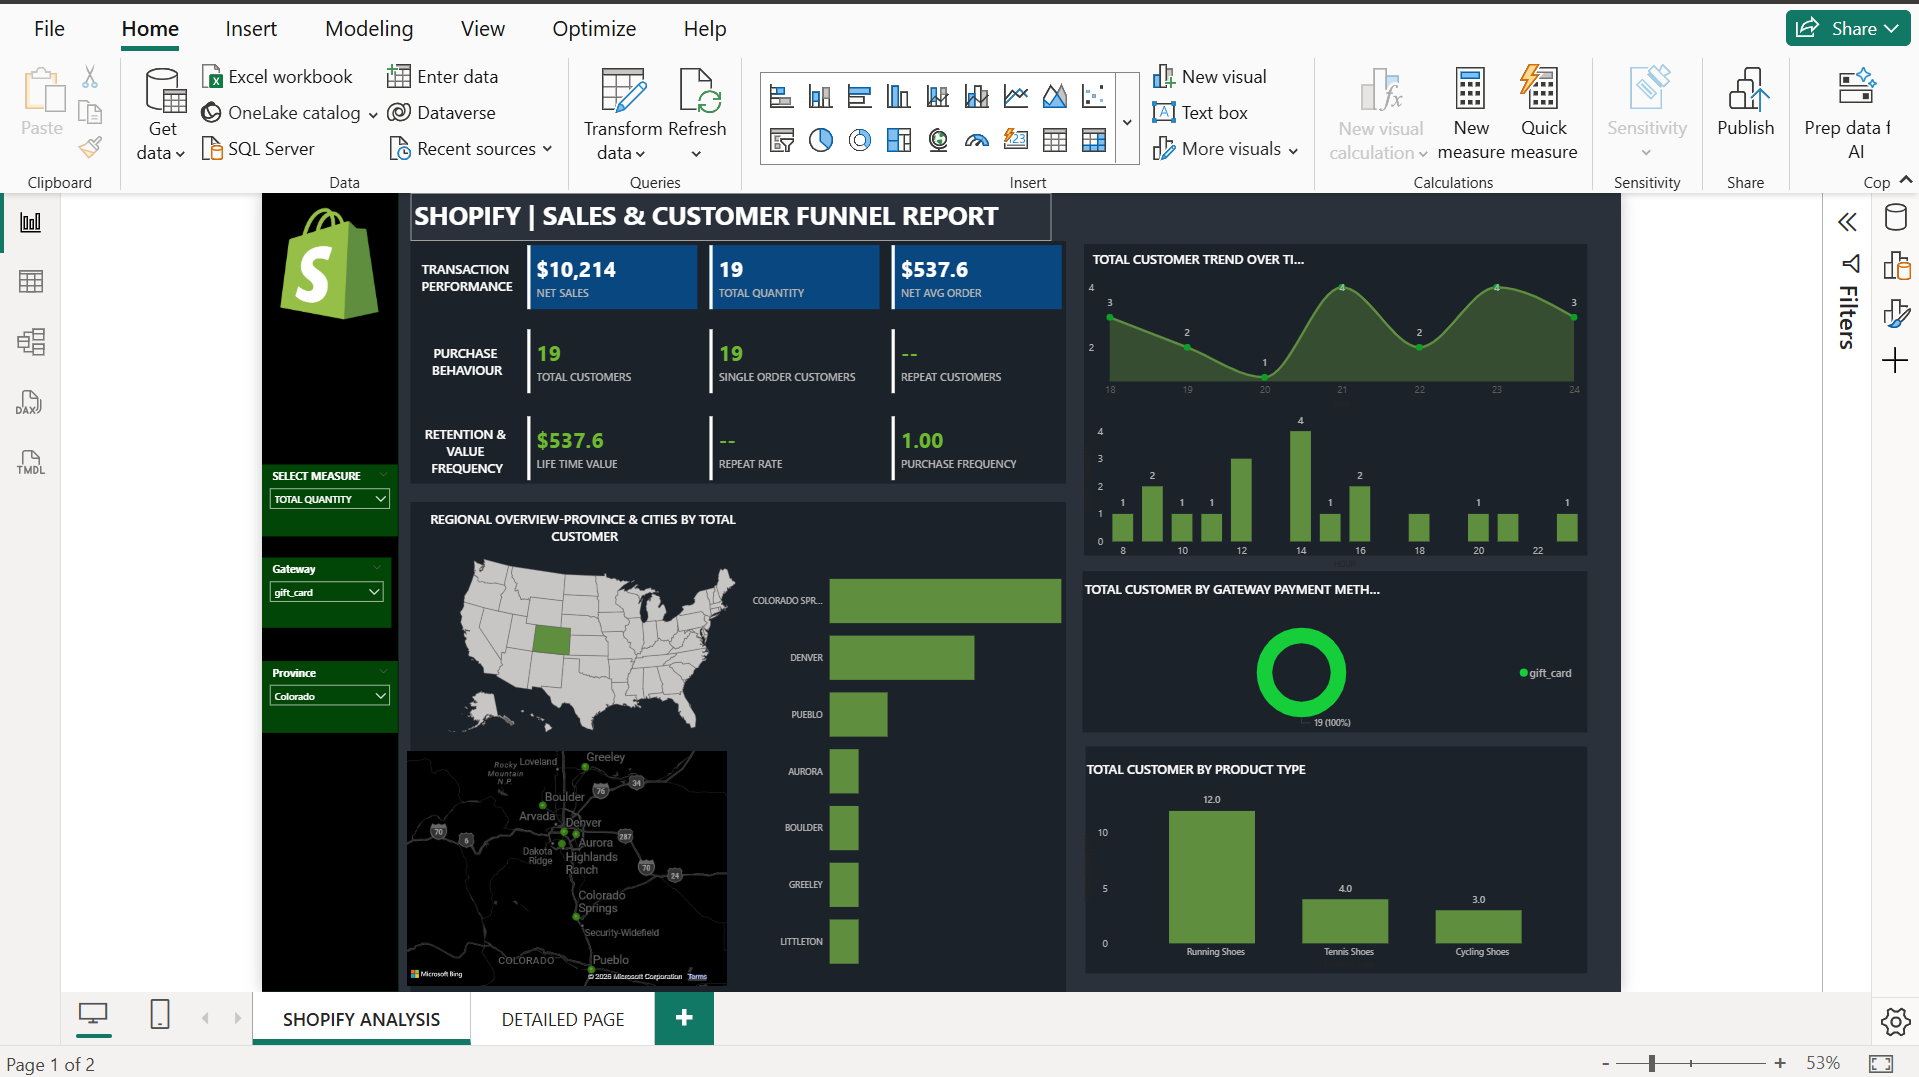

The page's visual inventory and layout, read from the dashboard file:
{"tool":"powerbi","page":{"name":"SHOPIFY ANALYSIS","canvas":[1700,1000],"ordinal":0},"visuals":[{"type":"shape","box":[0,0,170.9,999.5],"z":0},{"type":"textbox","box":[185,0,802.4,60.3],"z":1000},{"type":"shape","box":[185,60.3,820.5,303.7],"z":2000},{"type":"cardVisual","fields":{"Data":["shopify_sales.NET SALES","shopify_sales.TOTAL QUANTITY","shopify_sales.NET AVG ORDER"]},"box":[325.8,60.3,679.7,90.5],"z":3000},{"type":"card","fields":{"Values":["shopify_sales.TRANSACTION PERFORMANCE"]},"box":[185,60.3,140.8,90.5],"z":4000},{"type":"cardVisual","fields":{"Data":["shopify_sales.TOTAL CUSTOMERS","shopify_sales.SINGLE ORDER CUSTOMERS","shopify_sales.REPEAT COLUMNS"]},"box":[325.8,164.9,679.7,90.5],"z":5000},{"type":"card","fields":{"Values":["shopify_sales.PURCHASE BEHAVIOUR"]},"box":[185,164.9,140.8,90.5],"z":6000},{"type":"cardVisual","fields":{"Data":["shopify_sales.LIFE TIME VALUE","shopify_sales.REPEAT RATE","shopify_sales.PURCHASE FREQUENCY"]},"box":[325.8,273.5,679.7,90.5],"z":7000},{"type":"card","fields":{"Values":["shopify_sales.RETENTION & VALUE FREQUENCY"]},"box":[185,273.5,140.8,90.5],"z":8000},{"type":"shape","box":[185,386.1,820.5,613.4],"z":9000},{"type":"shapeMap","fields":{"Value":["shopify_sales.TOTAL QUANTITY"],"Category":["shopify_sales.Billing Address Province"]},"box":[186,442,454,250],"z":10000},{"type":"slicer","fields":{"Values":["SELECT MEASURE.SELECT MEASURE"]},"box":[0,340,170,90],"z":11000},{"type":"map","fields":{"Category":["shopify_sales.CITY"]},"box":[176,692,410,304],"z":12000},{"type":"clusteredBarChart","fields":{"Y":["shopify_sales.TOTAL QUANTITY"],"Category":["shopify_sales.CITY"]},"box":[596,442,410,558],"z":13000},{"type":"card","fields":{"Values":["shopify_sales.MAP TITLE"]},"box":[176,386,454,62],"z":14000},{"type":"shape","box":[1028,64,630,390],"z":15000},{"type":"areaChart","fields":{"Y":["shopify_sales.TOTAL QUANTITY"],"Category":["shopify_sales.Invoice Date.Variation.Date Hierarchy.Day"]},"box":[1028,100,628,174],"z":16000},{"type":"columnChart","fields":{"Y":["shopify_sales.TOTAL QUANTITY"],"Category":["shopify_sales.HOUR"]},"box":[1024,262,630,212],"z":17000},{"type":"card","fields":{"Values":["shopify_sales.TREND TITLE"]},"box":[1028,60,286,50],"z":18000},{"type":"shape","box":[1026,474,632,202],"z":19000},{"type":"donutChart","fields":{"Y":["shopify_sales.TOTAL QUANTITY"],"Category":["shopify_sales.Gateway"]},"box":[1024,524,630,152],"z":20000},{"type":"card","fields":{"Values":["shopify_sales.GATEWAY TITLE"]},"box":[1024,474,382,50],"z":21000},{"type":"shape","box":[1030,692,628,284],"z":22000},{"type":"columnChart","fields":{"Y":["shopify_sales.TOTAL QUANTITY"],"Category":["shopify_sales.Product Type"]},"box":[1024,738,634,238],"z":23000},{"type":"card","fields":{"Values":["shopify_sales.PRODUCT TITLE"]},"box":[980,698,382,50],"z":24000},{"type":"image","box":[8,14,154,150],"z":25000},{"type":"slicer","fields":{"Values":["shopify_sales.Billing Address Province"]},"box":[0,586,170,90],"z":26000},{"type":"slicer","fields":{"Values":["shopify_sales.Gateway"]},"box":[0,456,162,88],"z":27000}]}

Visuals, with their boxes on the page's 1700x1000 design canvas (x1, y1, x2, y2). These are canvas units, not pixel positions in the 1919x1077 screenshot, which may show the page scaled, cropped or inside an application window:
shape: box(0, 0, 171, 1000)
textbox: box(185, 0, 987, 60)
shape: box(185, 60, 1006, 364)
cardVisual - shopify_sales.NET SALES x shopify_sales.TOTAL QUANTITY: box(326, 60, 1006, 151)
card - shopify_sales.TRANSACTION PERFORMANCE: box(185, 60, 326, 151)
cardVisual - shopify_sales.TOTAL CUSTOMERS x shopify_sales.SINGLE ORDER CUSTOMERS: box(326, 165, 1006, 255)
card - shopify_sales.PURCHASE BEHAVIOUR: box(185, 165, 326, 255)
cardVisual - shopify_sales.LIFE TIME VALUE x shopify_sales.REPEAT RATE: box(326, 274, 1006, 364)
card - shopify_sales.RETENTION & VALUE FREQUENCY: box(185, 274, 326, 364)
shape: box(185, 386, 1006, 1000)
shapeMap - shopify_sales.TOTAL QUANTITY x shopify_sales.Billing Address Province: box(186, 442, 640, 692)
slicer - SELECT MEASURE.SELECT MEASURE: box(0, 340, 170, 430)
map - shopify_sales.CITY: box(176, 692, 586, 996)
clusteredBarChart - shopify_sales.TOTAL QUANTITY x shopify_sales.CITY: box(596, 442, 1006, 1000)
card - shopify_sales.MAP TITLE: box(176, 386, 630, 448)
shape: box(1028, 64, 1658, 454)
areaChart - shopify_sales.TOTAL QUANTITY x shopify_sales.Invoice Date.Variation.Date Hierarchy.Day: box(1028, 100, 1656, 274)
columnChart - shopify_sales.TOTAL QUANTITY x shopify_sales.HOUR: box(1024, 262, 1654, 474)
card - shopify_sales.TREND TITLE: box(1028, 60, 1314, 110)
shape: box(1026, 474, 1658, 676)
donutChart - shopify_sales.TOTAL QUANTITY x shopify_sales.Gateway: box(1024, 524, 1654, 676)
card - shopify_sales.GATEWAY TITLE: box(1024, 474, 1406, 524)
shape: box(1030, 692, 1658, 976)
columnChart - shopify_sales.TOTAL QUANTITY x shopify_sales.Product Type: box(1024, 738, 1658, 976)
card - shopify_sales.PRODUCT TITLE: box(980, 698, 1362, 748)
image: box(8, 14, 162, 164)
slicer - shopify_sales.Billing Address Province: box(0, 586, 170, 676)
slicer - shopify_sales.Gateway: box(0, 456, 162, 544)
